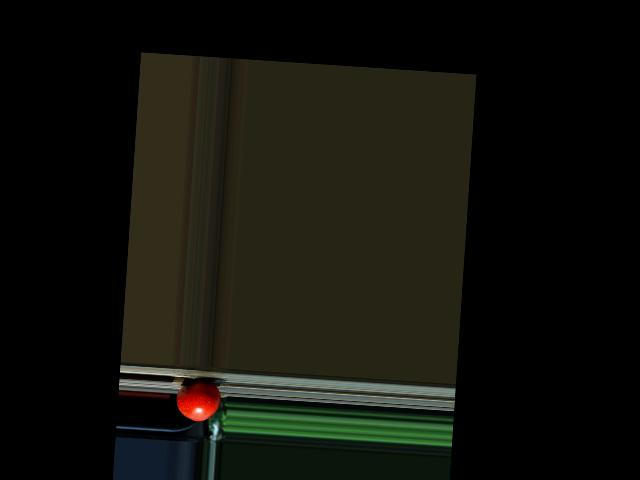tomato: (175, 380, 222, 423)
